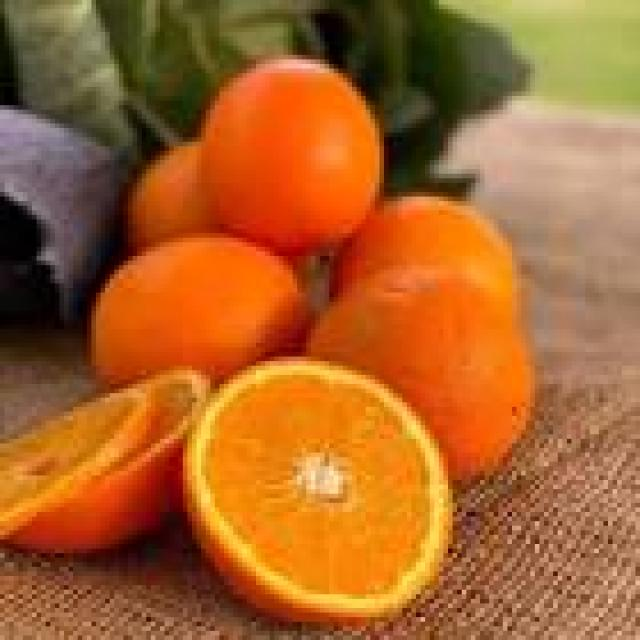orange: (0, 59, 532, 624)
